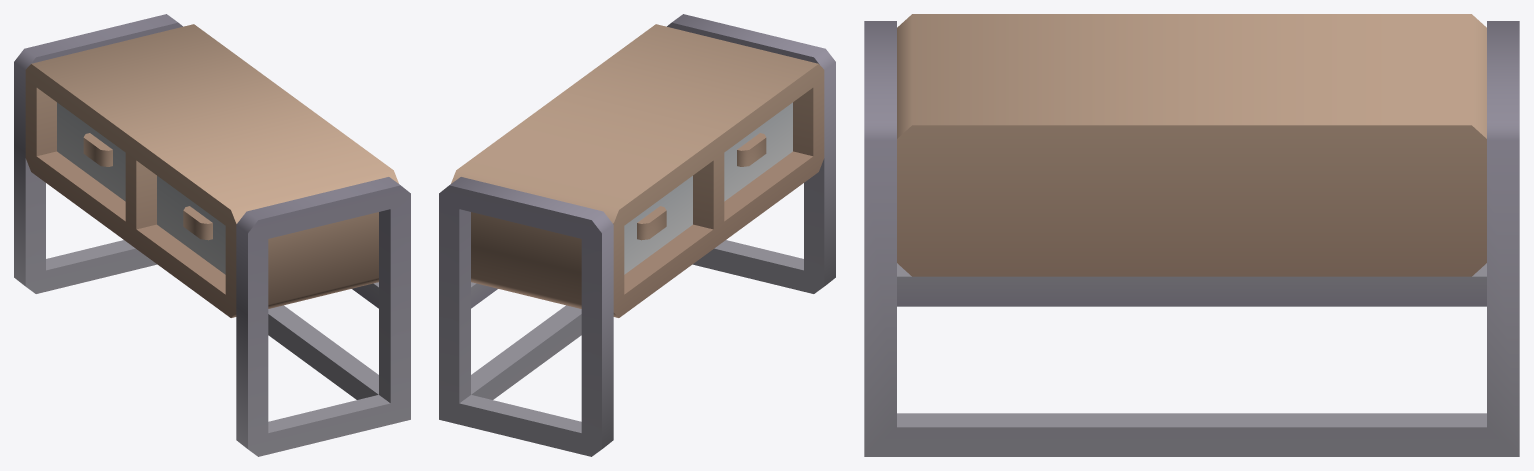
File: sidetable-drawers-frame-sides.glb
3 views of the same model, side by side, from view 1: azimuth 30°, elevation 25°; view 2: azimuth 150°, elevation 25°; view 3: azimuth 270°, elevation 25° (orthographic). The views are drawn at different scales.
Visible parts, largest first — view 1: sidetable-drawers-frame-sides; view 2: sidetable-drawers-frame-sides; view 3: sidetable-drawers-frame-sides.
Part boxes in pixels (x1,y1,x2,y2): sidetable-drawers-frame-sides: (14, 14, 410, 456); sidetable-drawers-frame-sides: (439, 14, 835, 456); sidetable-drawers-frame-sides: (864, 14, 1519, 456).
Size of the model in its own units: 0.4 by 0.556 by 0.996.
